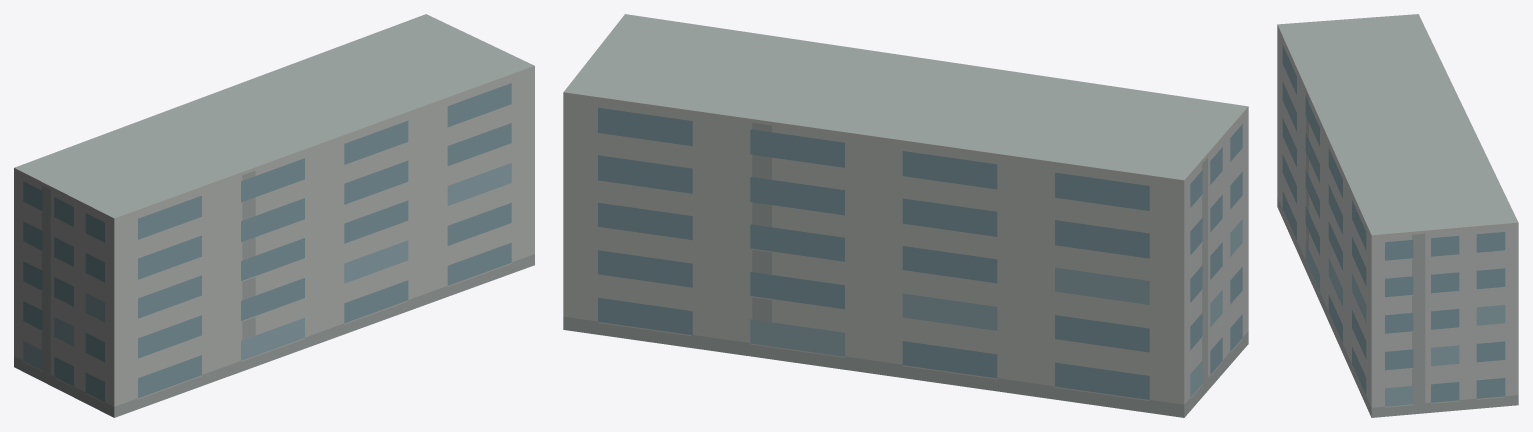
The model's file is residential-b771a17e-86b9-4a21-b35e-3b5b8bb0480c.glb.
3 renders of one model, left to right at view 1: azimuth 30°, elevation 25°; view 2: azimuth 150°, elevation 25°; view 3: azimuth 270°, elevation 25°, orthographic. The views are drawn at different scales.
Parts seen in each view (by area): view 1: residential-b771a17e-86b9-4a21-b35e-3b5b8bb0480c.tmp; view 2: residential-b771a17e-86b9-4a21-b35e-3b5b8bb0480c.tmp; view 3: residential-b771a17e-86b9-4a21-b35e-3b5b8bb0480c.tmp.
Boxes of the visible parts, x1,y1,x2,y2 form: residential-b771a17e-86b9-4a21-b35e-3b5b8bb0480c.tmp: (14, 14, 534, 417); residential-b771a17e-86b9-4a21-b35e-3b5b8bb0480c.tmp: (563, 14, 1248, 417); residential-b771a17e-86b9-4a21-b35e-3b5b8bb0480c.tmp: (1277, 14, 1518, 417).
Size of the model in its own units: 39.64 by 15.25 by 18.26.
